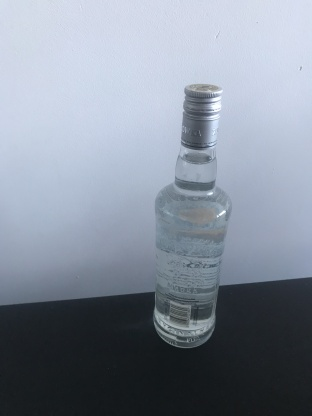nakretka: (178, 79, 223, 152)
